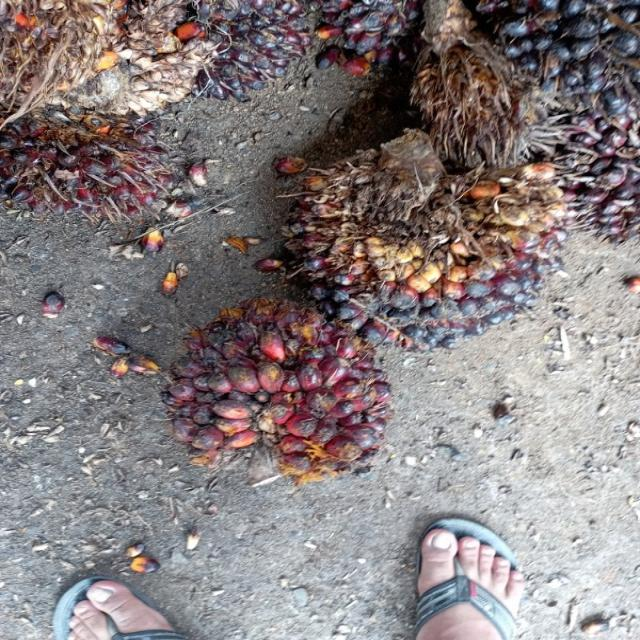fraksi 00: (271, 121, 576, 362)
fraksi 1: (163, 291, 395, 474)
